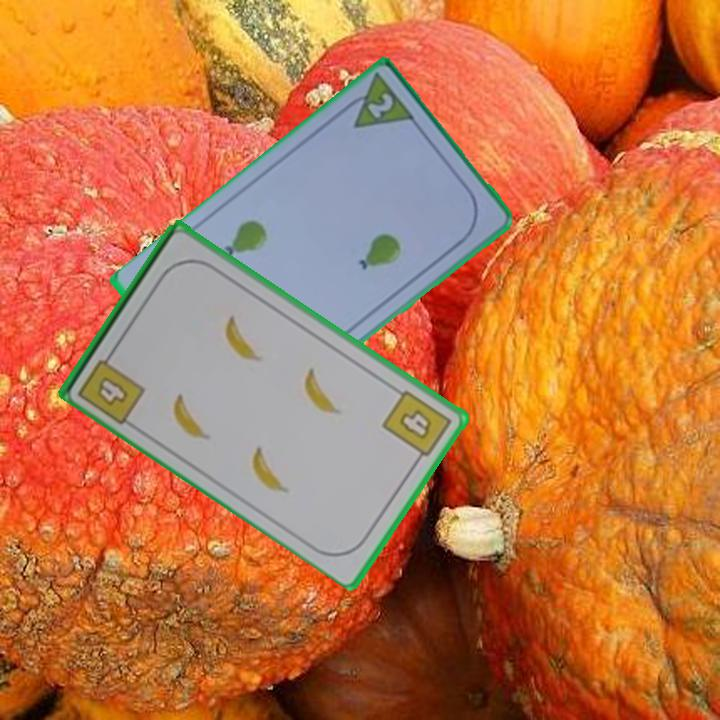2p: (336, 72, 419, 133)
4b: (378, 386, 455, 467), (74, 345, 149, 427)
